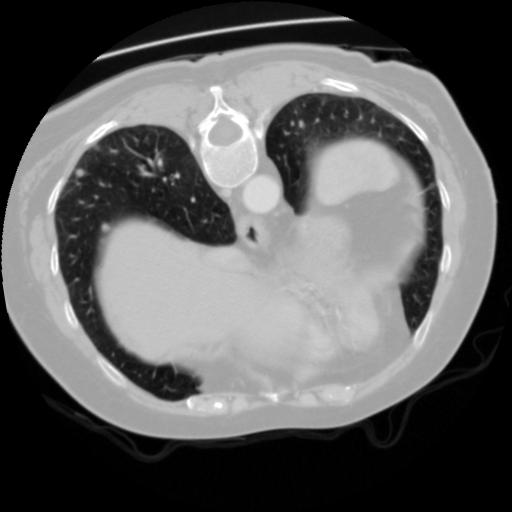nodule: (71, 166, 86, 181)
